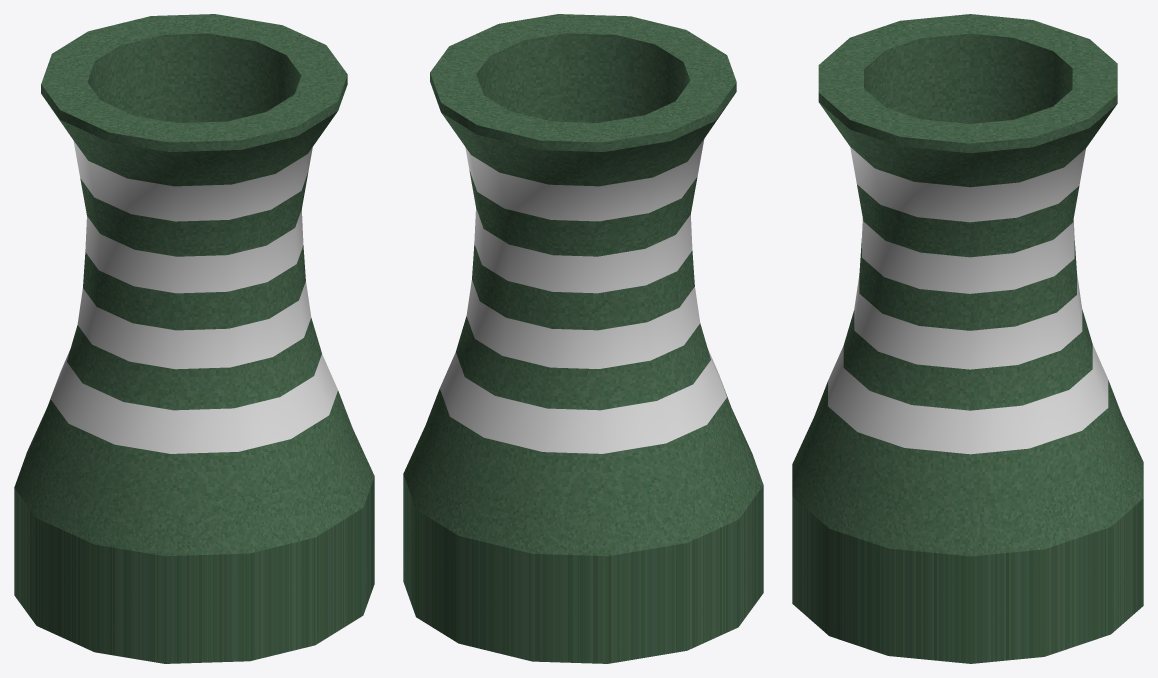
Rendered from CoolingTower.fbx.
3 renders of one model, left to right at view 1: azimuth 30°, elevation 25°; view 2: azimuth 150°, elevation 25°; view 3: azimuth 270°, elevation 25°, orthographic.
Visible parts, largest first — view 1: CoolingTower; view 2: CoolingTower; view 3: CoolingTower.
Boxes of the visible parts, x1=… form: CoolingTower: x1=14, y1=14, x2=374, y2=663; CoolingTower: x1=403, y1=14, x2=763, y2=663; CoolingTower: x1=792, y1=14, x2=1143, y2=663.
Bounding box in the file's own units: 11.79 × 11.49 × 18.37.
